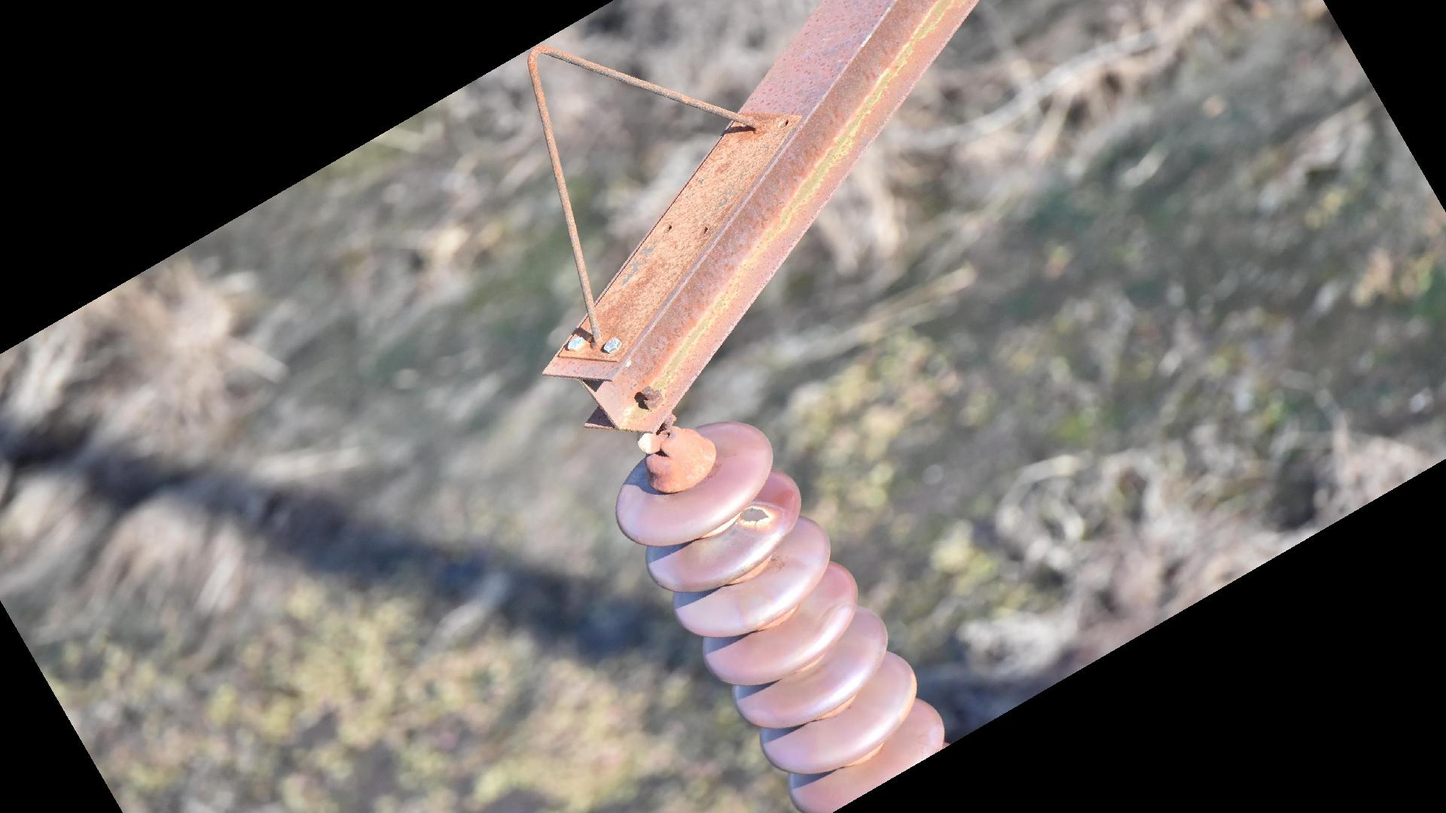insulator: (610, 414, 952, 813)
insulator_flashover: (732, 501, 782, 534)
